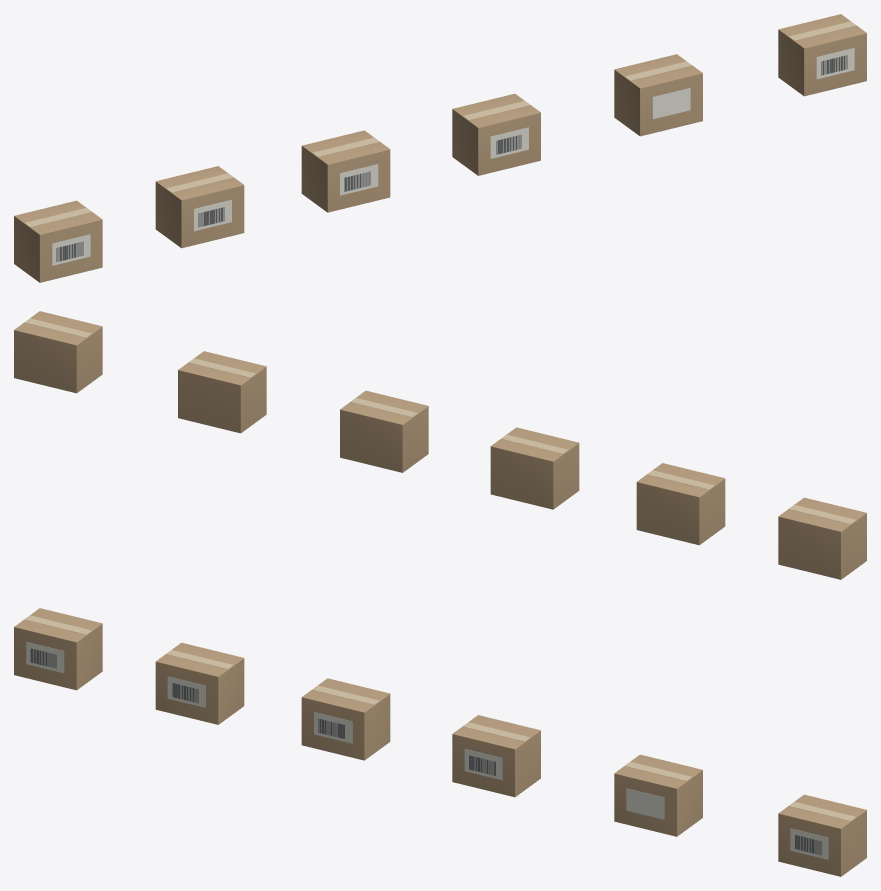
The model's file is case-read.glb.
The picture shows the model from 3 angles, top to bottom: view 1: azimuth 30°, elevation 25°; view 2: azimuth 150°, elevation 25°; view 3: azimuth 330°, elevation 25°; orthographic projection.
Visible parts, largest first — view 1: TCAS_concept_case_sample_1_corrugated_shell, TCAS_concept_case_sample_2_corrugated_shell, TCAS_concept_case_sample_5_corrugated_shell, TCAS_concept_case_sample_0_corrugated_shell, TCAS_concept_case_sample_4_corrugated_shell, TCAS_concept_case_sample_3_corrugated_shell, TCAS_concept_case_sample_0_read_panel, TCAS_concept_case_sample_3_read_panel, TCAS_concept_case_sample_2_read_panel, TCAS_concept_case_sample_4_read_panel, TCAS_concept_case_sample_5_read_panel, TCAS_concept_case_sample_1_read_panel (+12 smaller); view 2: TCAS_concept_case_sample_1_corrugated_shell, TCAS_concept_case_sample_2_corrugated_shell, TCAS_concept_case_sample_3_corrugated_shell, TCAS_concept_case_sample_5_corrugated_shell, TCAS_concept_case_sample_4_corrugated_shell, TCAS_concept_case_sample_0_corrugated_shell, TCAS_concept_case_sample_1_top_flap__99, TCAS_concept_case_sample_2_top_flap__99, TCAS_concept_case_sample_4_top_flap__99, TCAS_concept_case_sample_0_top_flap__99, TCAS_concept_case_sample_3_top_flap__99, TCAS_concept_case_sample_5_top_flap__99 (+6 smaller); view 3: TCAS_concept_case_sample_2_corrugated_shell, TCAS_concept_case_sample_1_corrugated_shell, TCAS_concept_case_sample_3_corrugated_shell, TCAS_concept_case_sample_0_corrugated_shell, TCAS_concept_case_sample_5_corrugated_shell, TCAS_concept_case_sample_4_corrugated_shell, TCAS_concept_case_sample_1_read_panel, TCAS_concept_case_sample_2_read_panel, TCAS_concept_case_sample_4_read_panel, TCAS_concept_case_sample_5_read_panel, TCAS_concept_case_sample_3_read_panel, TCAS_concept_case_sample_0_read_panel (+12 smaller).
Boxes of the visible parts, x1=… form: TCAS_concept_case_sample_1_corrugated_shell: x1=155, y1=166, x2=244, y2=248; TCAS_concept_case_sample_2_corrugated_shell: x1=301, y1=130, x2=390, y2=212; TCAS_concept_case_sample_5_corrugated_shell: x1=778, y1=14, x2=866, y2=96; TCAS_concept_case_sample_0_corrugated_shell: x1=14, y1=200, x2=102, y2=282; TCAS_concept_case_sample_4_corrugated_shell: x1=614, y1=54, x2=702, y2=136; TCAS_concept_case_sample_3_corrugated_shell: x1=452, y1=93, x2=540, y2=175; TCAS_concept_case_sample_0_read_panel: x1=52, y1=234, x2=90, y2=265; TCAS_concept_case_sample_3_read_panel: x1=490, y1=127, x2=528, y2=158; TCAS_concept_case_sample_2_read_panel: x1=340, y1=164, x2=378, y2=195; TCAS_concept_case_sample_4_read_panel: x1=652, y1=88, x2=690, y2=119; TCAS_concept_case_sample_5_read_panel: x1=816, y1=48, x2=854, y2=79; TCAS_concept_case_sample_1_read_panel: x1=194, y1=199, x2=231, y2=231; TCAS_concept_case_sample_1_corrugated_shell: x1=636, y1=463, x2=725, y2=545; TCAS_concept_case_sample_2_corrugated_shell: x1=490, y1=427, x2=579, y2=509; TCAS_concept_case_sample_3_corrugated_shell: x1=340, y1=391, x2=428, y2=472; TCAS_concept_case_sample_5_corrugated_shell: x1=14, y1=311, x2=102, y2=393; TCAS_concept_case_sample_4_corrugated_shell: x1=178, y1=351, x2=266, y2=433; TCAS_concept_case_sample_0_corrugated_shell: x1=778, y1=499, x2=866, y2=579; TCAS_concept_case_sample_1_top_flap__99: x1=653, y1=463, x2=724, y2=485; TCAS_concept_case_sample_2_top_flap__99: x1=507, y1=427, x2=578, y2=449; TCAS_concept_case_sample_4_top_flap__99: x1=195, y1=351, x2=265, y2=373; TCAS_concept_case_sample_0_top_flap__99: x1=795, y1=497, x2=865, y2=519; TCAS_concept_case_sample_3_top_flap__99: x1=357, y1=391, x2=427, y2=412; TCAS_concept_case_sample_5_top_flap__99: x1=31, y1=311, x2=101, y2=334; TCAS_concept_case_sample_2_corrugated_shell: x1=301, y1=678, x2=390, y2=760; TCAS_concept_case_sample_1_corrugated_shell: x1=155, y1=643, x2=244, y2=724; TCAS_concept_case_sample_3_corrugated_shell: x1=452, y1=715, x2=540, y2=797; TCAS_concept_case_sample_0_corrugated_shell: x1=14, y1=608, x2=102, y2=690; TCAS_concept_case_sample_5_corrugated_shell: x1=778, y1=795, x2=866, y2=876; TCAS_concept_case_sample_4_corrugated_shell: x1=614, y1=755, x2=702, y2=836; TCAS_concept_case_sample_1_read_panel: x1=167, y1=676, x2=205, y2=707; TCAS_concept_case_sample_2_read_panel: x1=314, y1=712, x2=352, y2=743; TCAS_concept_case_sample_4_read_panel: x1=626, y1=788, x2=664, y2=819; TCAS_concept_case_sample_5_read_panel: x1=790, y1=828, x2=828, y2=859; TCAS_concept_case_sample_3_read_panel: x1=464, y1=749, x2=502, y2=780; TCAS_concept_case_sample_0_read_panel: x1=26, y1=642, x2=64, y2=673.
Bounding box in the file's own units: 3.68 × 0.2056 × 0.2016.
